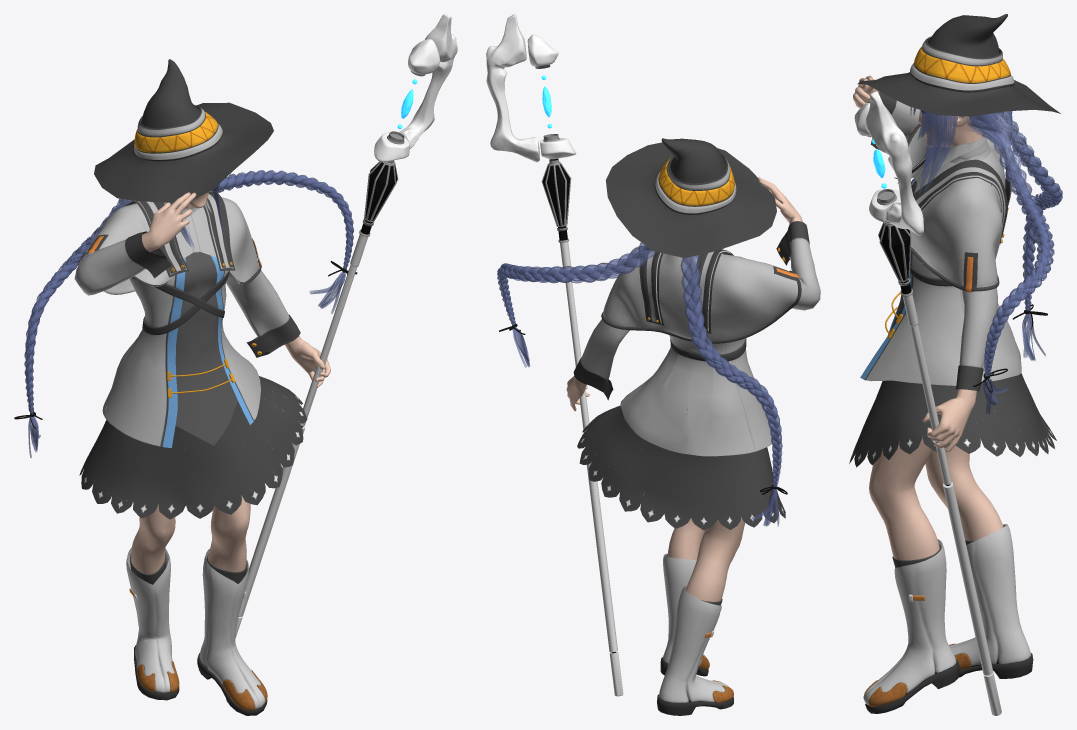
File: roxy.glb
3 views of the same model, side by side, from view 1: azimuth 30°, elevation 25°; view 2: azimuth 150°, elevation 25°; view 3: azimuth 270°, elevation 25° (orthographic). The views are drawn at different scales.
Visible parts, largest first — view 1: rok.001_30, jak_retop_weld_hi1_1.002_32, tpi_8, shoes_53, kaos1.002_31, cape1.001_26, Cylinder002_7, Object_129, tpi_det.001_9, Object_131, cape_det2x3_1.001_29, PM3D_Sphere3D9_6 (+7 smaller); view 2: jak_retop_weld_hi1_1.002_32, rok.001_30, tpi_8, cape1.001_26, shoes_53, Cylinder002_7, Object_129, braid_ht.001_mesh_70, PM3D_Sphere3D9_6, braid_ht_mesh_69, tpi_det.001_9, cape_det2x3_1.001_29 (+5 smaller); view 3: jak_retop_weld_hi1_1.002_32, shoes_53, rok.001_30, cape1.001_26, Object_129, tpi_8, Cylinder002_7, braid_ht_mesh_69, tpi_det.001_9, PM3D_Sphere3D9_6, braid_ht.001_mesh_70, cape_det2x3_1.001_29 (+12 smaller).
Part boxes in pixels (x1,y1,x2,y2): rok.001_30: (79,347,307,519); jak_retop_weld_hi1_1.002_32: (74,200,300,447); tpi_8: (94,59,273,202); shoes_53: (126,547,265,709); kaos1.002_31: (175,252,237,445); cape1.001_26: (79,197,259,294); Cylinder002_7: (235,70,425,638); Object_129: (131,495,250,574); tpi_det.001_9: (134,105,222,161); Object_131: (142,192,330,387); cape_det2x3_1.001_29: (126,191,235,277); PM3D_Sphere3D9_6: (399,14,457,148); jak_retop_weld_hi1_1.002_32: (573,221,820,456); rok.001_30: (577,405,785,530); tpi_8: (606,138,776,258); cape1.001_26: (603,247,801,343); shoes_53: (658,553,729,702); Cylinder002_7: (535,64,623,696); Object_129: (667,517,745,601); braid_ht.001_mesh_70: (680,255,782,490); PM3D_Sphere3D9_6: (486,14,539,162); braid_ht_mesh_69: (497,242,656,327); tpi_det.001_9: (654,152,736,214); cape_det2x3_1.001_29: (639,247,733,333); jak_retop_weld_hi1_1.002_32: (860,92,1021,391); shoes_53: (864,524,1031,705); rok.001_30: (849,373,1056,467); cape1.001_26: (894,123,1005,291); Object_129: (869,436,1003,560); tpi_8: (857,14,1060,116); Cylinder002_7: (867,136,1001,715); braid_ht_mesh_69: (984,116,1054,376); tpi_det.001_9: (910,36,1014,92); PM3D_Sphere3D9_6: (865,91,923,235); braid_ht.001_mesh_70: (1003,112,1062,315); cape_det2x3_1.001_29: (897,130,1011,244).
Bounding box in the file's own units: 1.21 × 1.98 × 0.5307.
29 materials, 12 textured.
